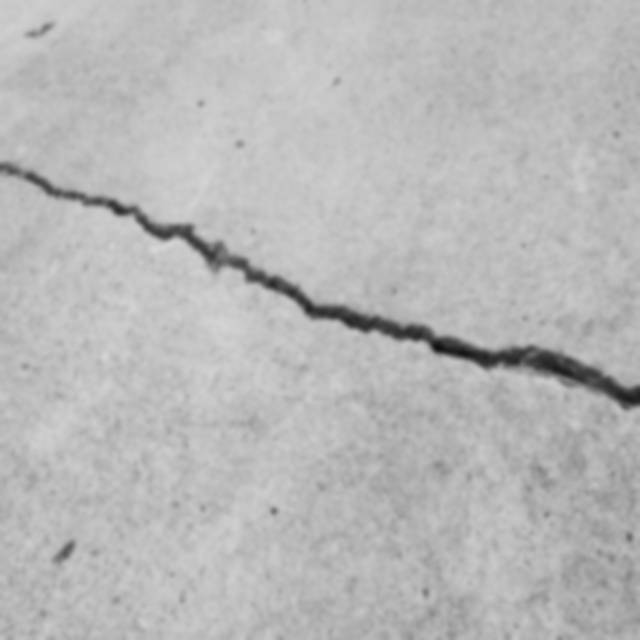SurfaceCrack: (0, 68, 639, 463)
